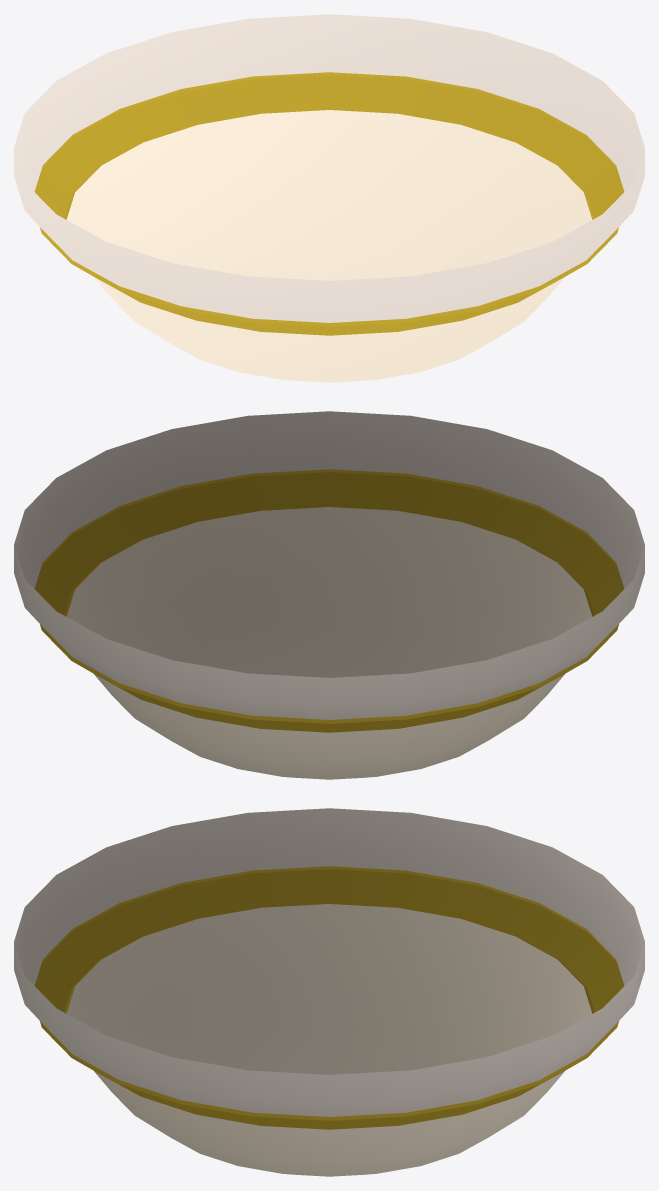
The model's file is FP425:LightFixture4_87d2da7c.obj.
3 renders of one model, top to bottom at view 1: azimuth 30°, elevation 25°; view 2: azimuth 150°, elevation 25°; view 3: azimuth 270°, elevation 25°, orthographic.
Visible parts, largest first — view 1: FP425:LightFixture4_87d2da7c; view 2: FP425:LightFixture4_87d2da7c; view 3: FP425:LightFixture4_87d2da7c.
Boxes of the visible parts, x1,y1,x2,y2 form: FP425:LightFixture4_87d2da7c: [14, 14, 644, 382]; FP425:LightFixture4_87d2da7c: [14, 411, 644, 779]; FP425:LightFixture4_87d2da7c: [14, 808, 644, 1176].
Size of the model in its own units: 0.4 by 0.1295 by 0.4.
